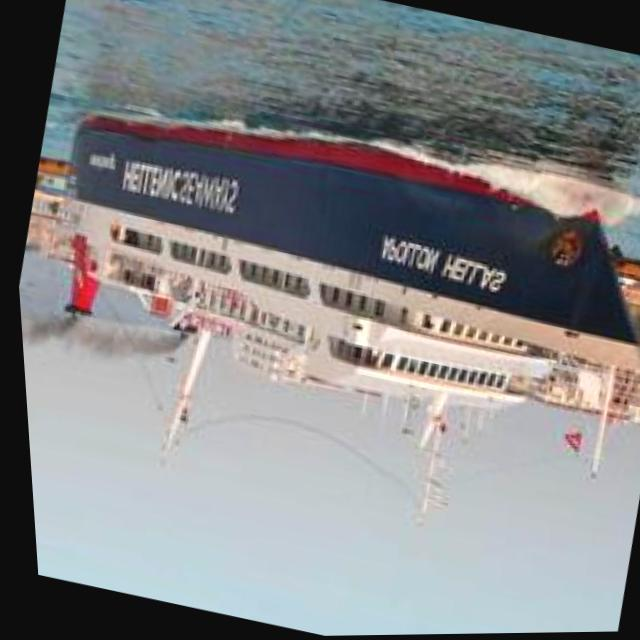ship2: (62, 110, 640, 522)
